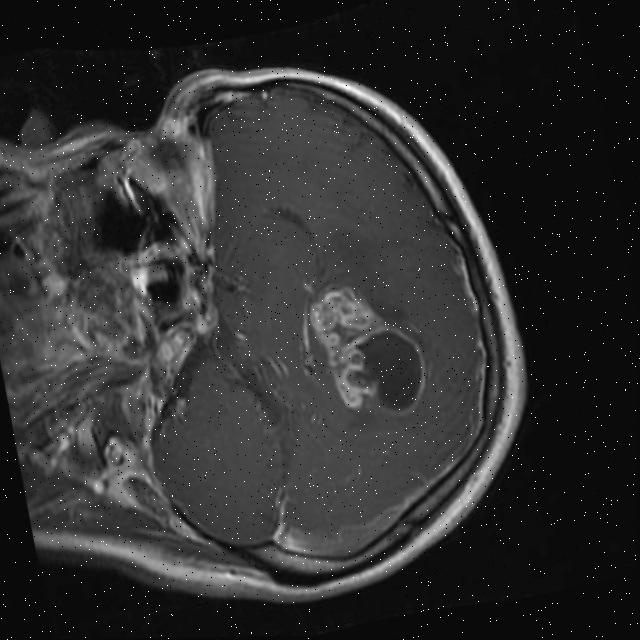Glioma: (314, 315, 436, 433), (303, 279, 387, 343)
